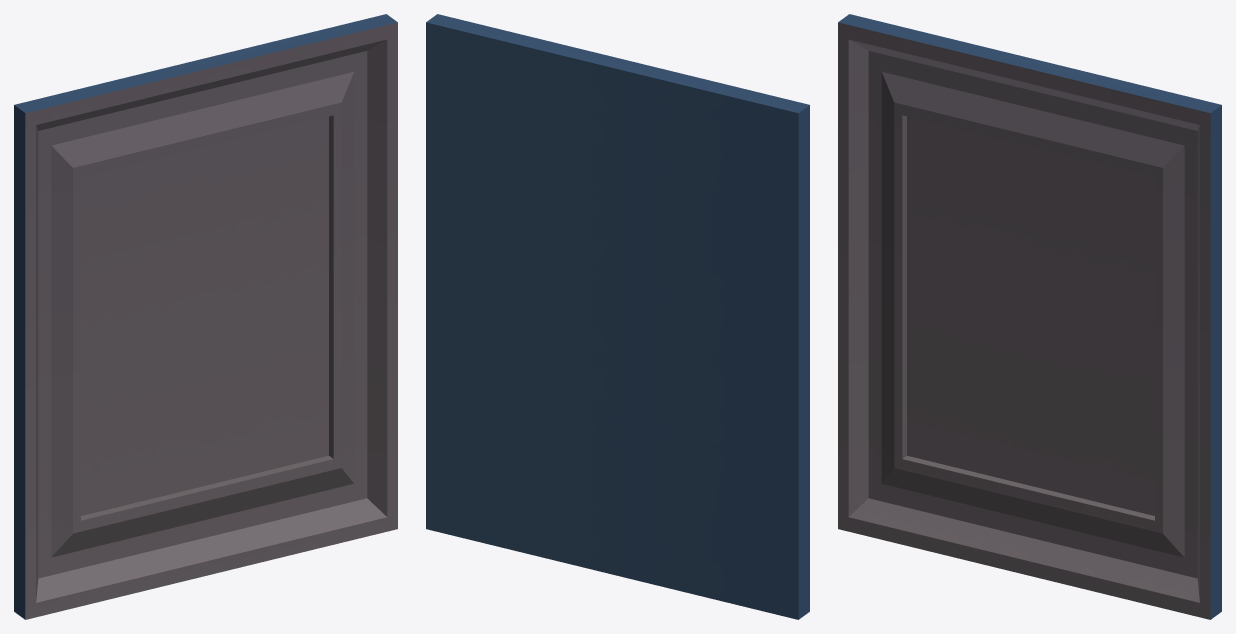
Rendered from PR_Poster.fbx.
3 renders of one model, left to right at view 1: azimuth 30°, elevation 25°; view 2: azimuth 150°, elevation 25°; view 3: azimuth 330°, elevation 25°, orthographic.
Parts seen in each view (by area): view 1: PR_Poster; view 2: PR_Poster; view 3: PR_Poster.
Part boxes in pixels (x1=…): PR_Poster: x1=14, y1=14, x2=397, y2=619; PR_Poster: x1=426, y1=14, x2=809, y2=619; PR_Poster: x1=838, y1=14, x2=1221, y2=619.
Bounding box in the file's own units: 45.43 × 59.06 × 2.41.
1 material, 1 textured.
